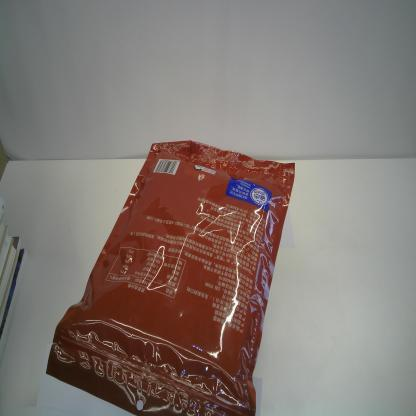Dried Food: (45, 139, 297, 416)
